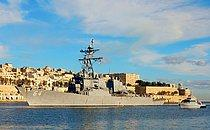MIL_Ship: (14, 45, 166, 107)
